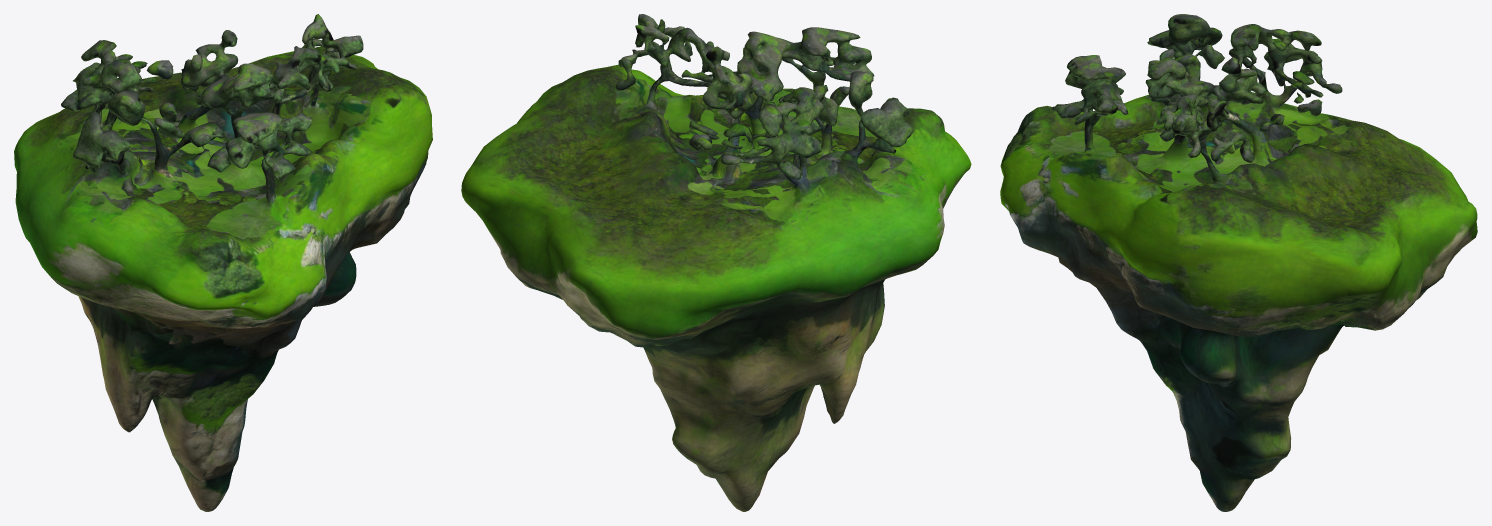
3 renders of one model, left to right at view 1: azimuth 30°, elevation 25°; view 2: azimuth 150°, elevation 25°; view 3: azimuth 270°, elevation 25°, orthographic. The views are drawn at different scales.
Size of the model in its own units: 1.72 by 1.96 by 1.82.
Materials: 1 (1 with a texture image).
